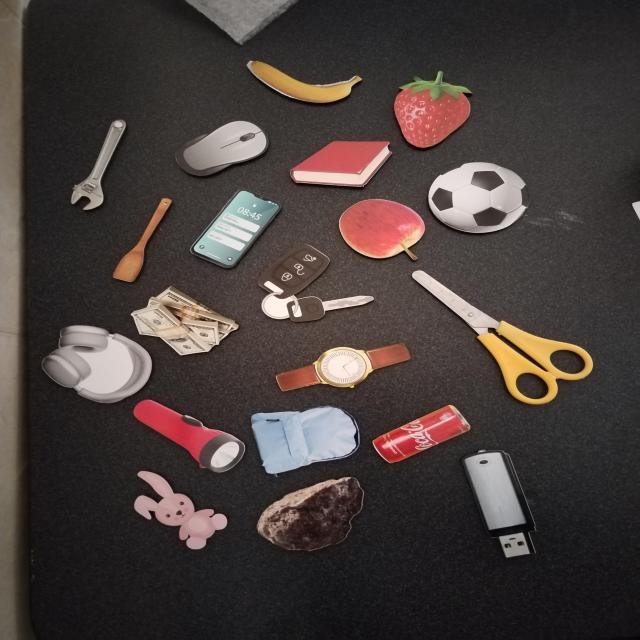Other Objects: (411, 269, 593, 405), (234, 240, 375, 346), (413, 150, 543, 245), (125, 385, 254, 479), (459, 445, 546, 561), (40, 324, 153, 404), (249, 401, 366, 476), (256, 476, 364, 552), (130, 285, 239, 356), (132, 470, 228, 550), (166, 114, 276, 182), (189, 190, 281, 269), (274, 344, 412, 391), (334, 196, 429, 262), (111, 195, 179, 284), (371, 404, 471, 464), (68, 115, 128, 212), (246, 60, 363, 104)
